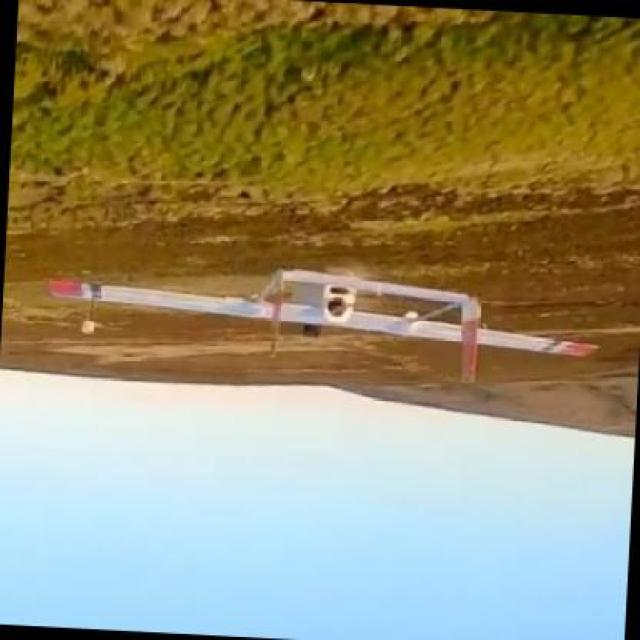iha: (46, 242, 602, 394)
